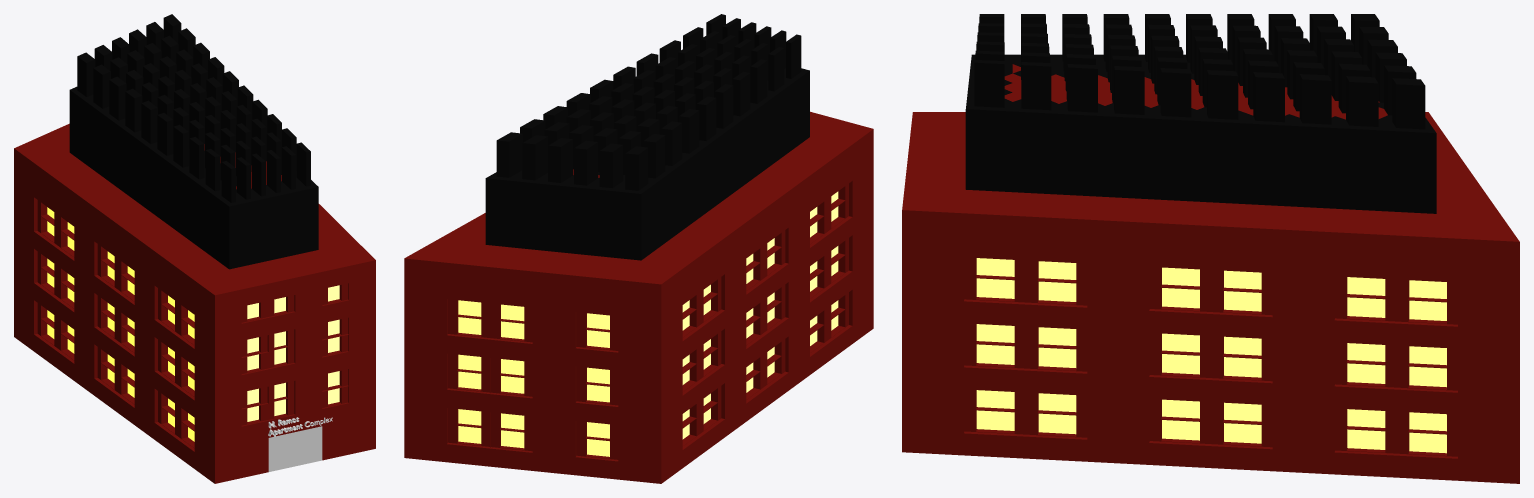
File: h._ramos_apartment_complex.fbx
3 views of the same model, side by side, from view 1: azimuth 30°, elevation 25°; view 2: azimuth 150°, elevation 25°; view 3: azimuth 270°, elevation 25° (orthographic). The views are drawn at different scales.
Visible parts, largest first — view 1: Plane, Text; view 2: Plane; view 3: Plane.
Boxes of the visible parts, box(x1,y1,x2,y2) form: Plane: box(14, 14, 375, 483); Text: box(268, 417, 332, 436); Plane: box(404, 14, 873, 483); Plane: box(902, 14, 1519, 483).
Size of the model in its own units: 414 by 545 by 832.
